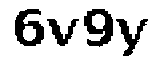6: (12, 6, 48, 51)
9: (81, 6, 115, 53)
v: (46, 14, 80, 48)
y: (114, 12, 153, 59)
